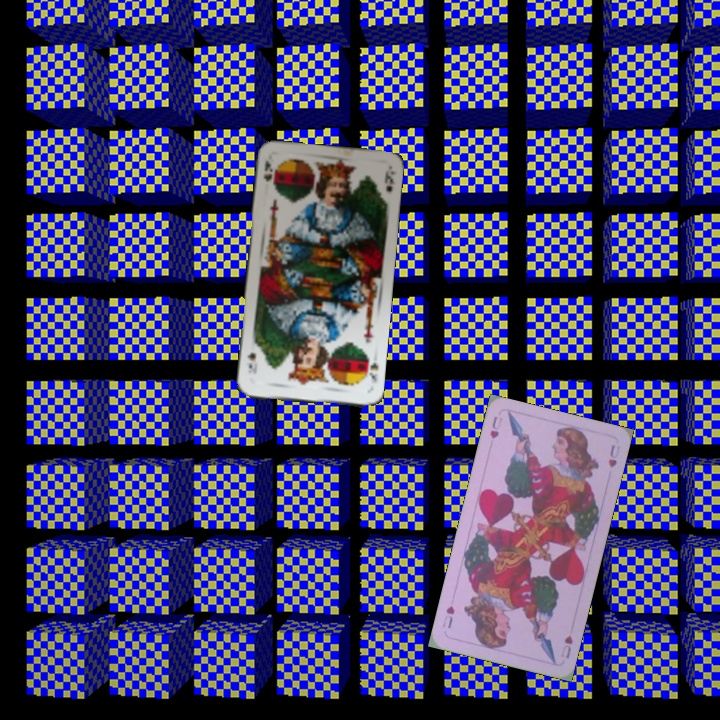HU: (557, 631, 576, 661), (486, 412, 505, 441)
SK: (360, 352, 381, 384), (260, 156, 278, 187)
